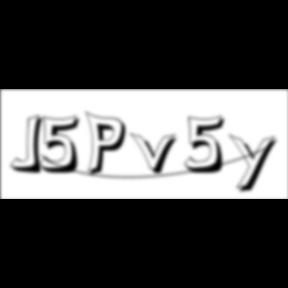5: (184, 114, 232, 176), (40, 114, 86, 176)
J: (11, 114, 50, 176)
P: (86, 110, 132, 180)
v: (130, 131, 184, 177)
y: (229, 132, 283, 196)
